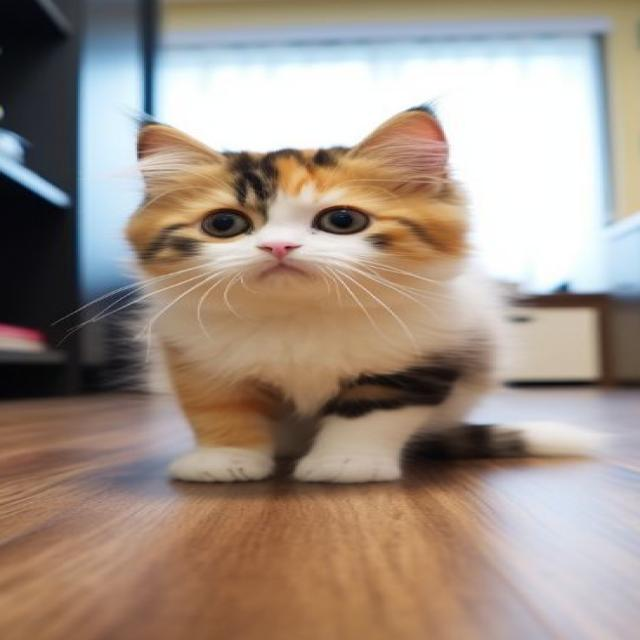Munchkin: (119, 100, 611, 490)
